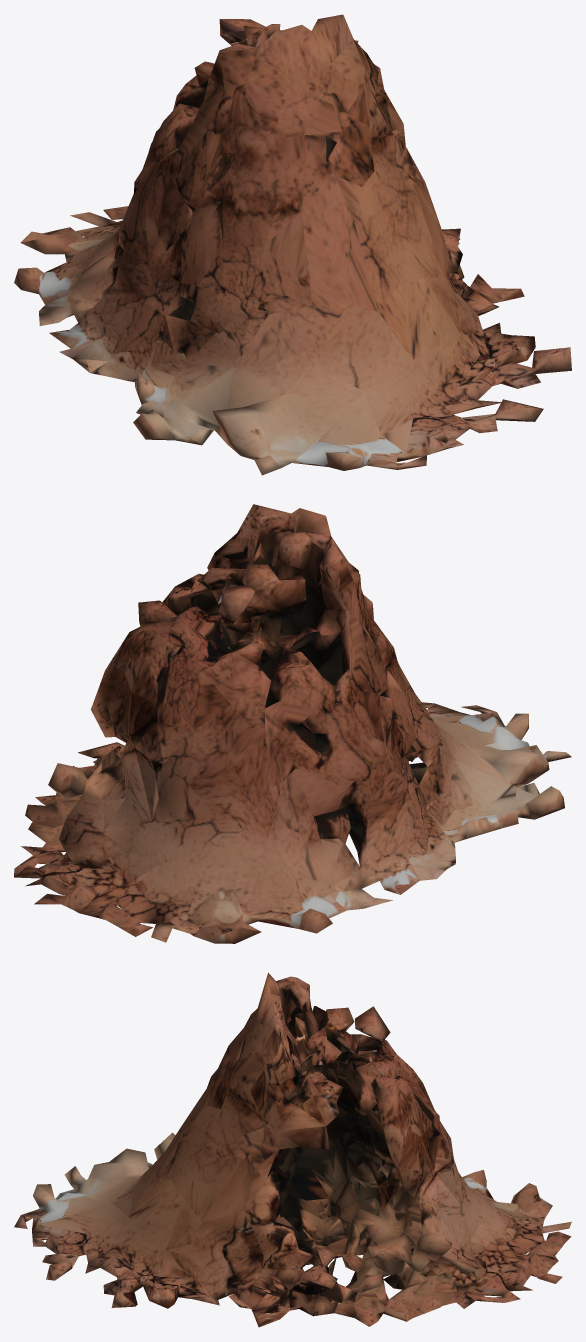
The model's file is BrokenMound.fbx.
3 views of the same model, one above another, from view 1: azimuth 30°, elevation 25°; view 2: azimuth 150°, elevation 25°; view 3: azimuth 270°, elevation 25° (orthographic). The views are drawn at different scales.
Visible parts, largest first — view 1: tripo_node_a21be27b; view 2: tripo_node_a21be27b; view 3: tripo_node_a21be27b.
Part boxes in pixels (x1,y1,x2,y2): tripo_node_a21be27b: (14,14,571,475); tripo_node_a21be27b: (14,504,571,943); tripo_node_a21be27b: (14,972,571,1327).
Size of the model in its own units: 73.71 by 51.13 by 99.56.
Materials: 1 (1 with a texture image).
